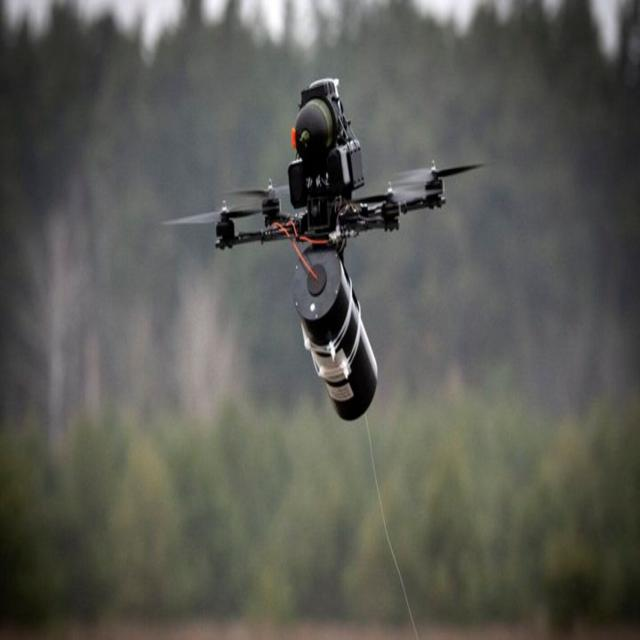drone: (156, 77, 500, 421)
